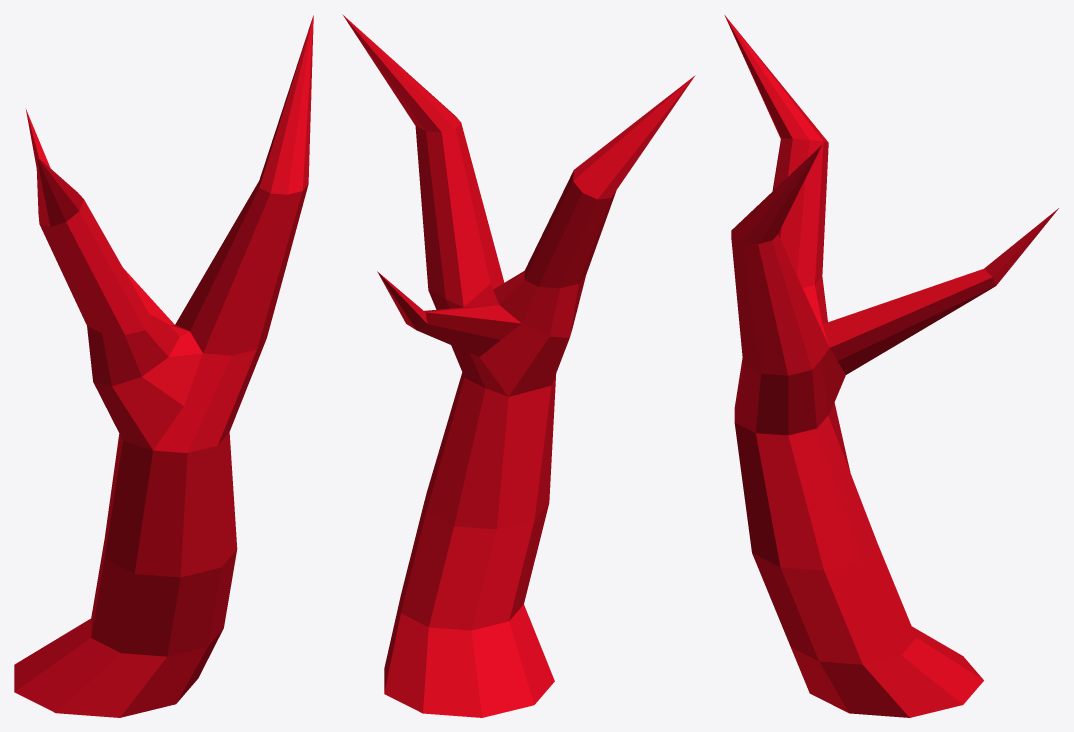
The model's file is tree.glb.
The picture shows the model from 3 angles, left to right: view 1: azimuth 30°, elevation 25°; view 2: azimuth 150°, elevation 25°; view 3: azimuth 270°, elevation 25°; orthographic projection. The views are drawn at different scales.
Visible parts, largest first — view 1: Circle; view 2: Circle; view 3: Circle.
Part boxes in pixels (<box>): Circle: <box>14,15,313,717</box>; Circle: <box>342,14,695,717</box>; Circle: <box>724,15,1058,717</box>.
Size of the model in its own units: 4.01 by 7.56 by 3.73.
